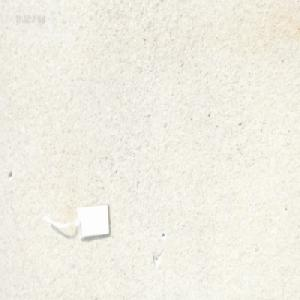LuggageTag: (45, 199, 114, 241)
